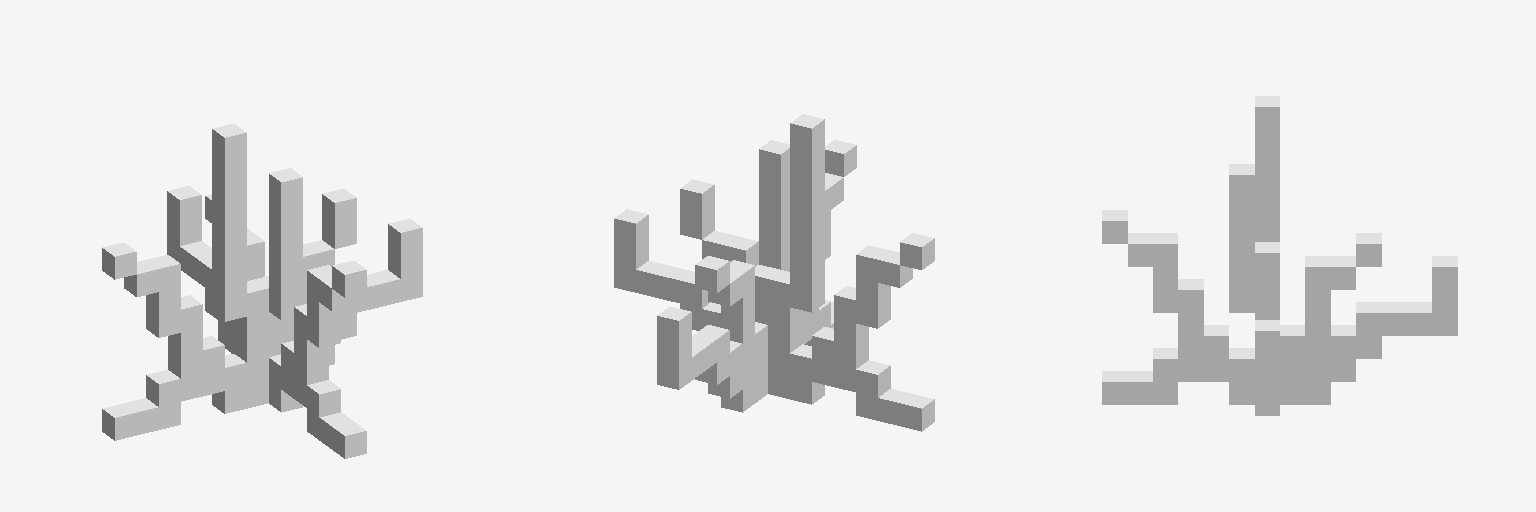
The model's file is forest1.4-24.obj.
3 renders of one model, left to right at view 1: azimuth 30°, elevation 25°; view 2: azimuth 150°, elevation 25°; view 3: azimuth 270°, elevation 25°, orthographic.
Visible parts, largest first — view 1: object 1; view 2: object 1; view 3: object 1.
Boxes of the visible parts, box(x1,y1,x2,y2) form: object 1: box(102, 123, 422, 458); object 1: box(614, 114, 934, 431); object 1: box(1102, 96, 1457, 415).
Size of the model in its own units: 2.8 by 2.4 by 2.8.